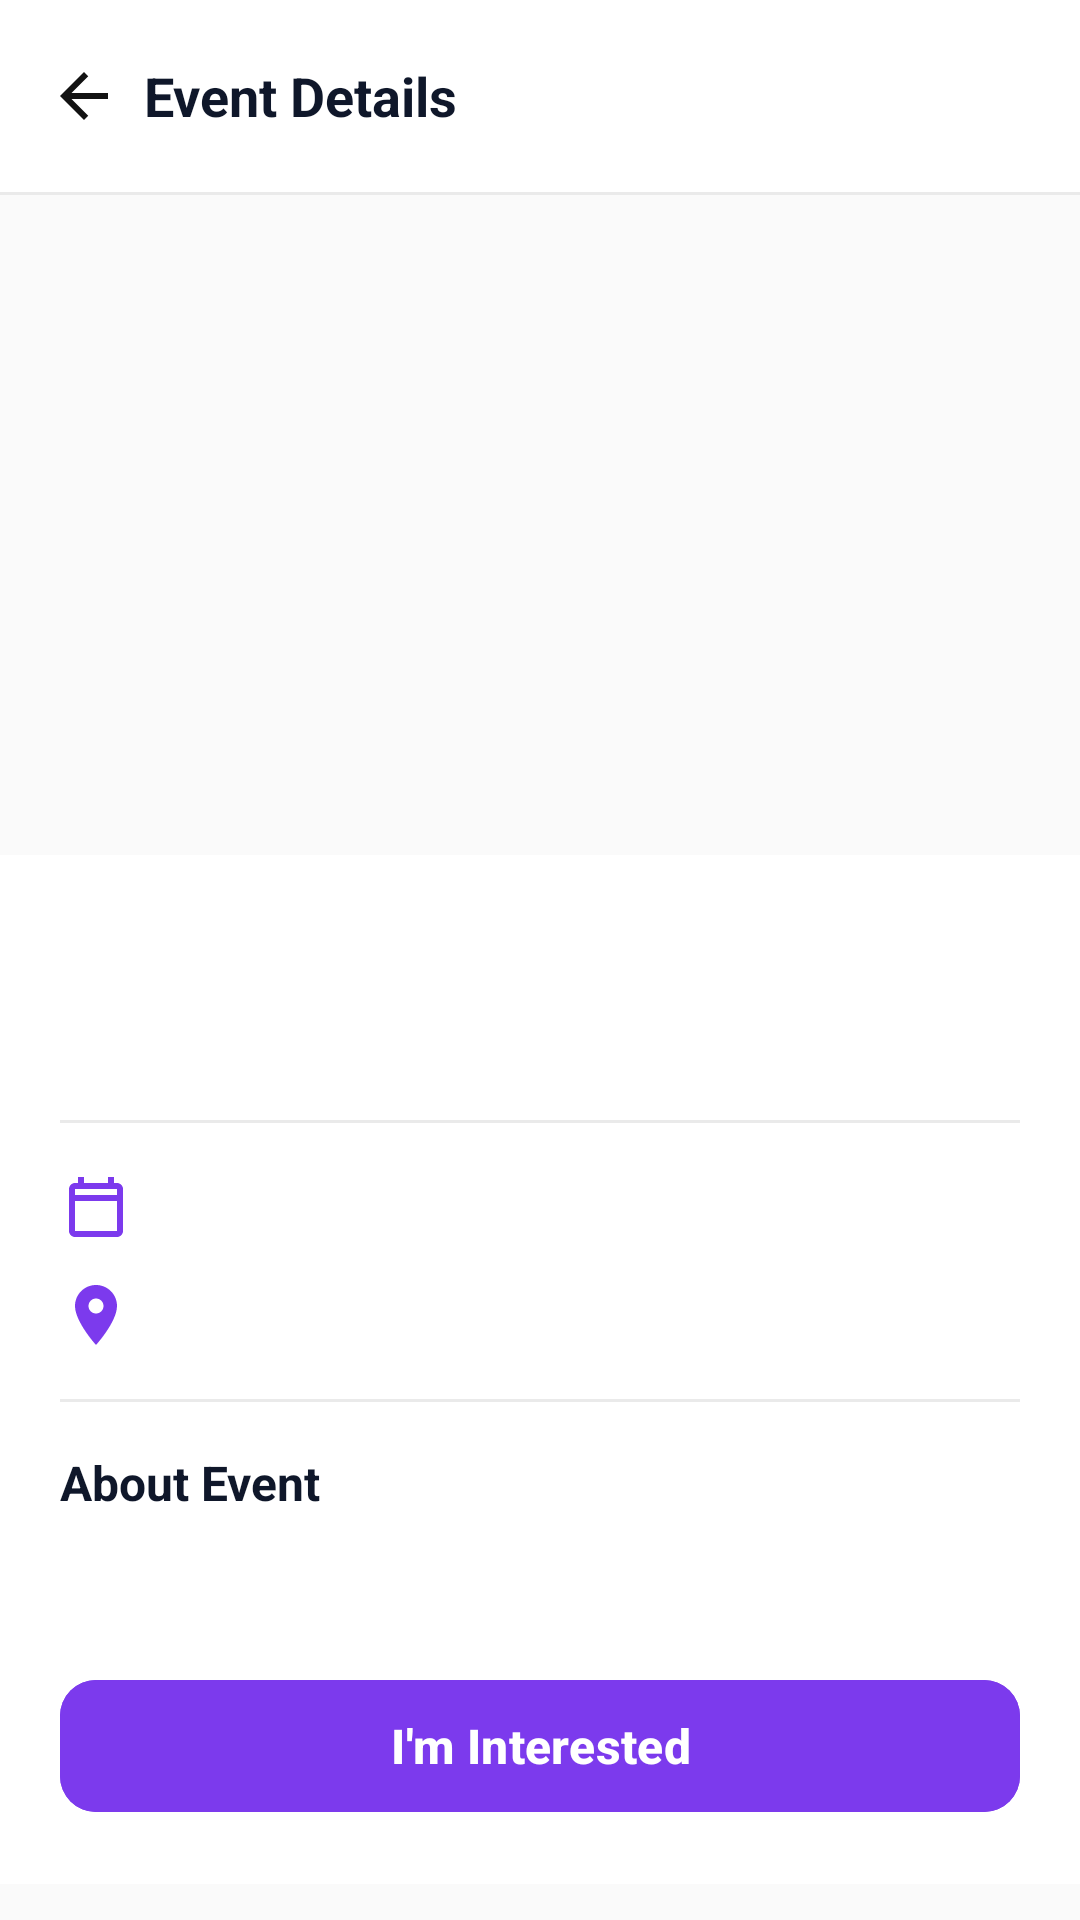

Screen size 1080px x 1920px. Icon name, then its box in pixels as (x1, y1, x2, y2):
calendar: (69, 1177, 123, 1237)
Go Back: (60, 72, 108, 120)
location: (75, 1285, 117, 1345)
